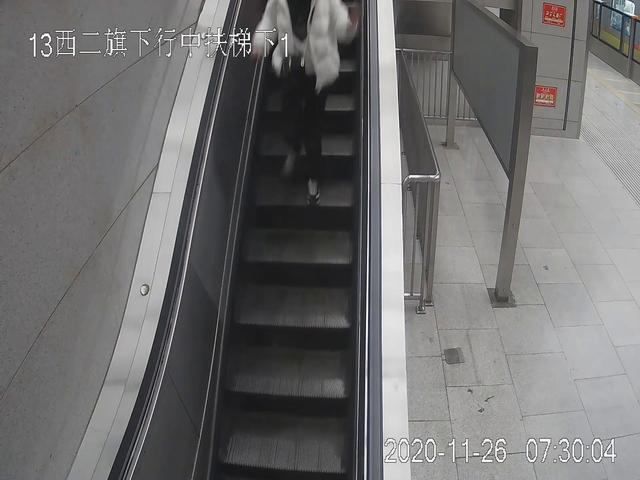person: (247, 1, 359, 210)
